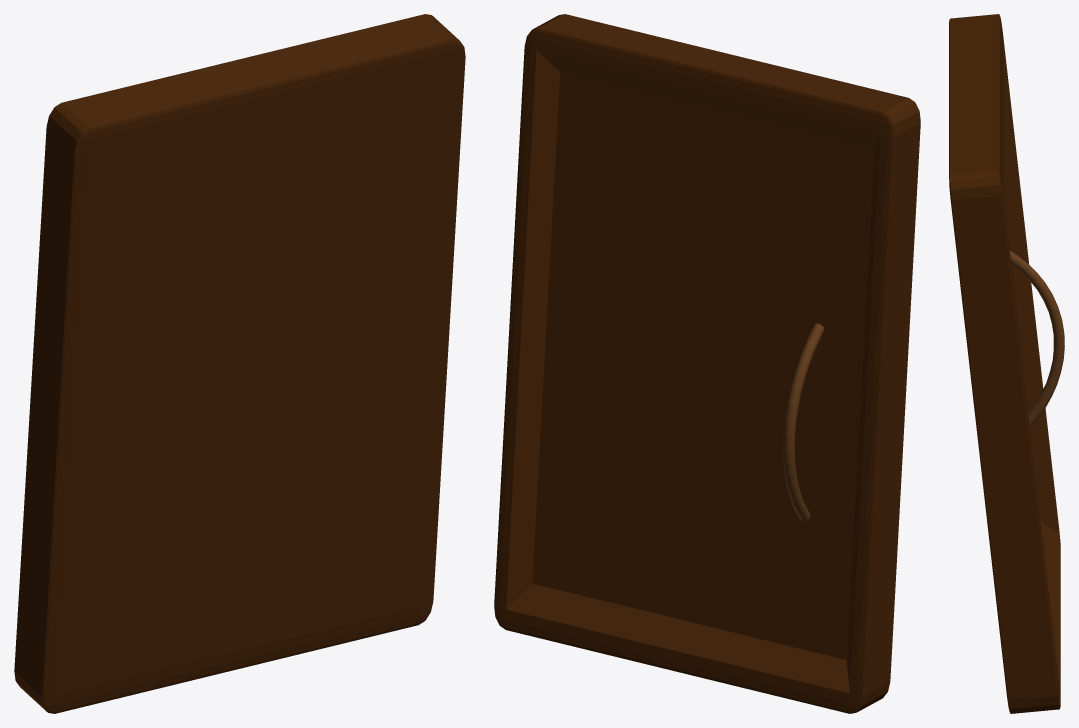
File: Дверь2.fbx
3 views of the same model, side by side, from view 1: azimuth 30°, elevation 25°; view 2: azimuth 150°, elevation 25°; view 3: azimuth 270°, elevation 25° (orthographic). The views are drawn at different scales.
Visible parts, largest first — view 1: Цилиндр.001; view 2: Цилиндр.001; view 3: Цилиндр.001.
Part boxes in pixels (x1,y1,x2,y2): Цилиндр.001: (14, 14, 465, 713); Цилиндр.001: (494, 14, 920, 713); Цилиндр.001: (949, 14, 1064, 713).
Bounding box in the file's own units: 311 × 468 × 90.36.
